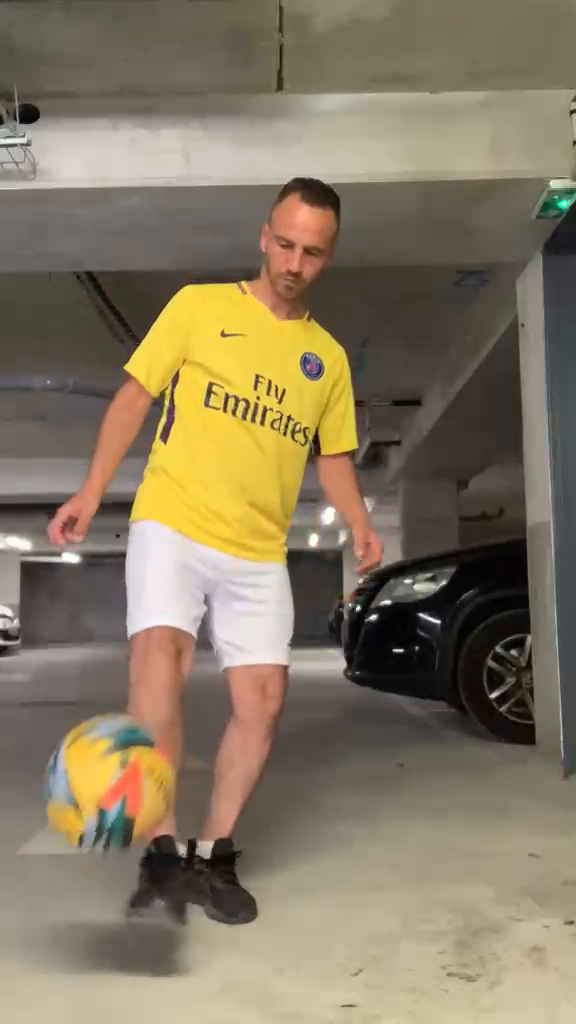ball: (39, 713, 176, 850)
